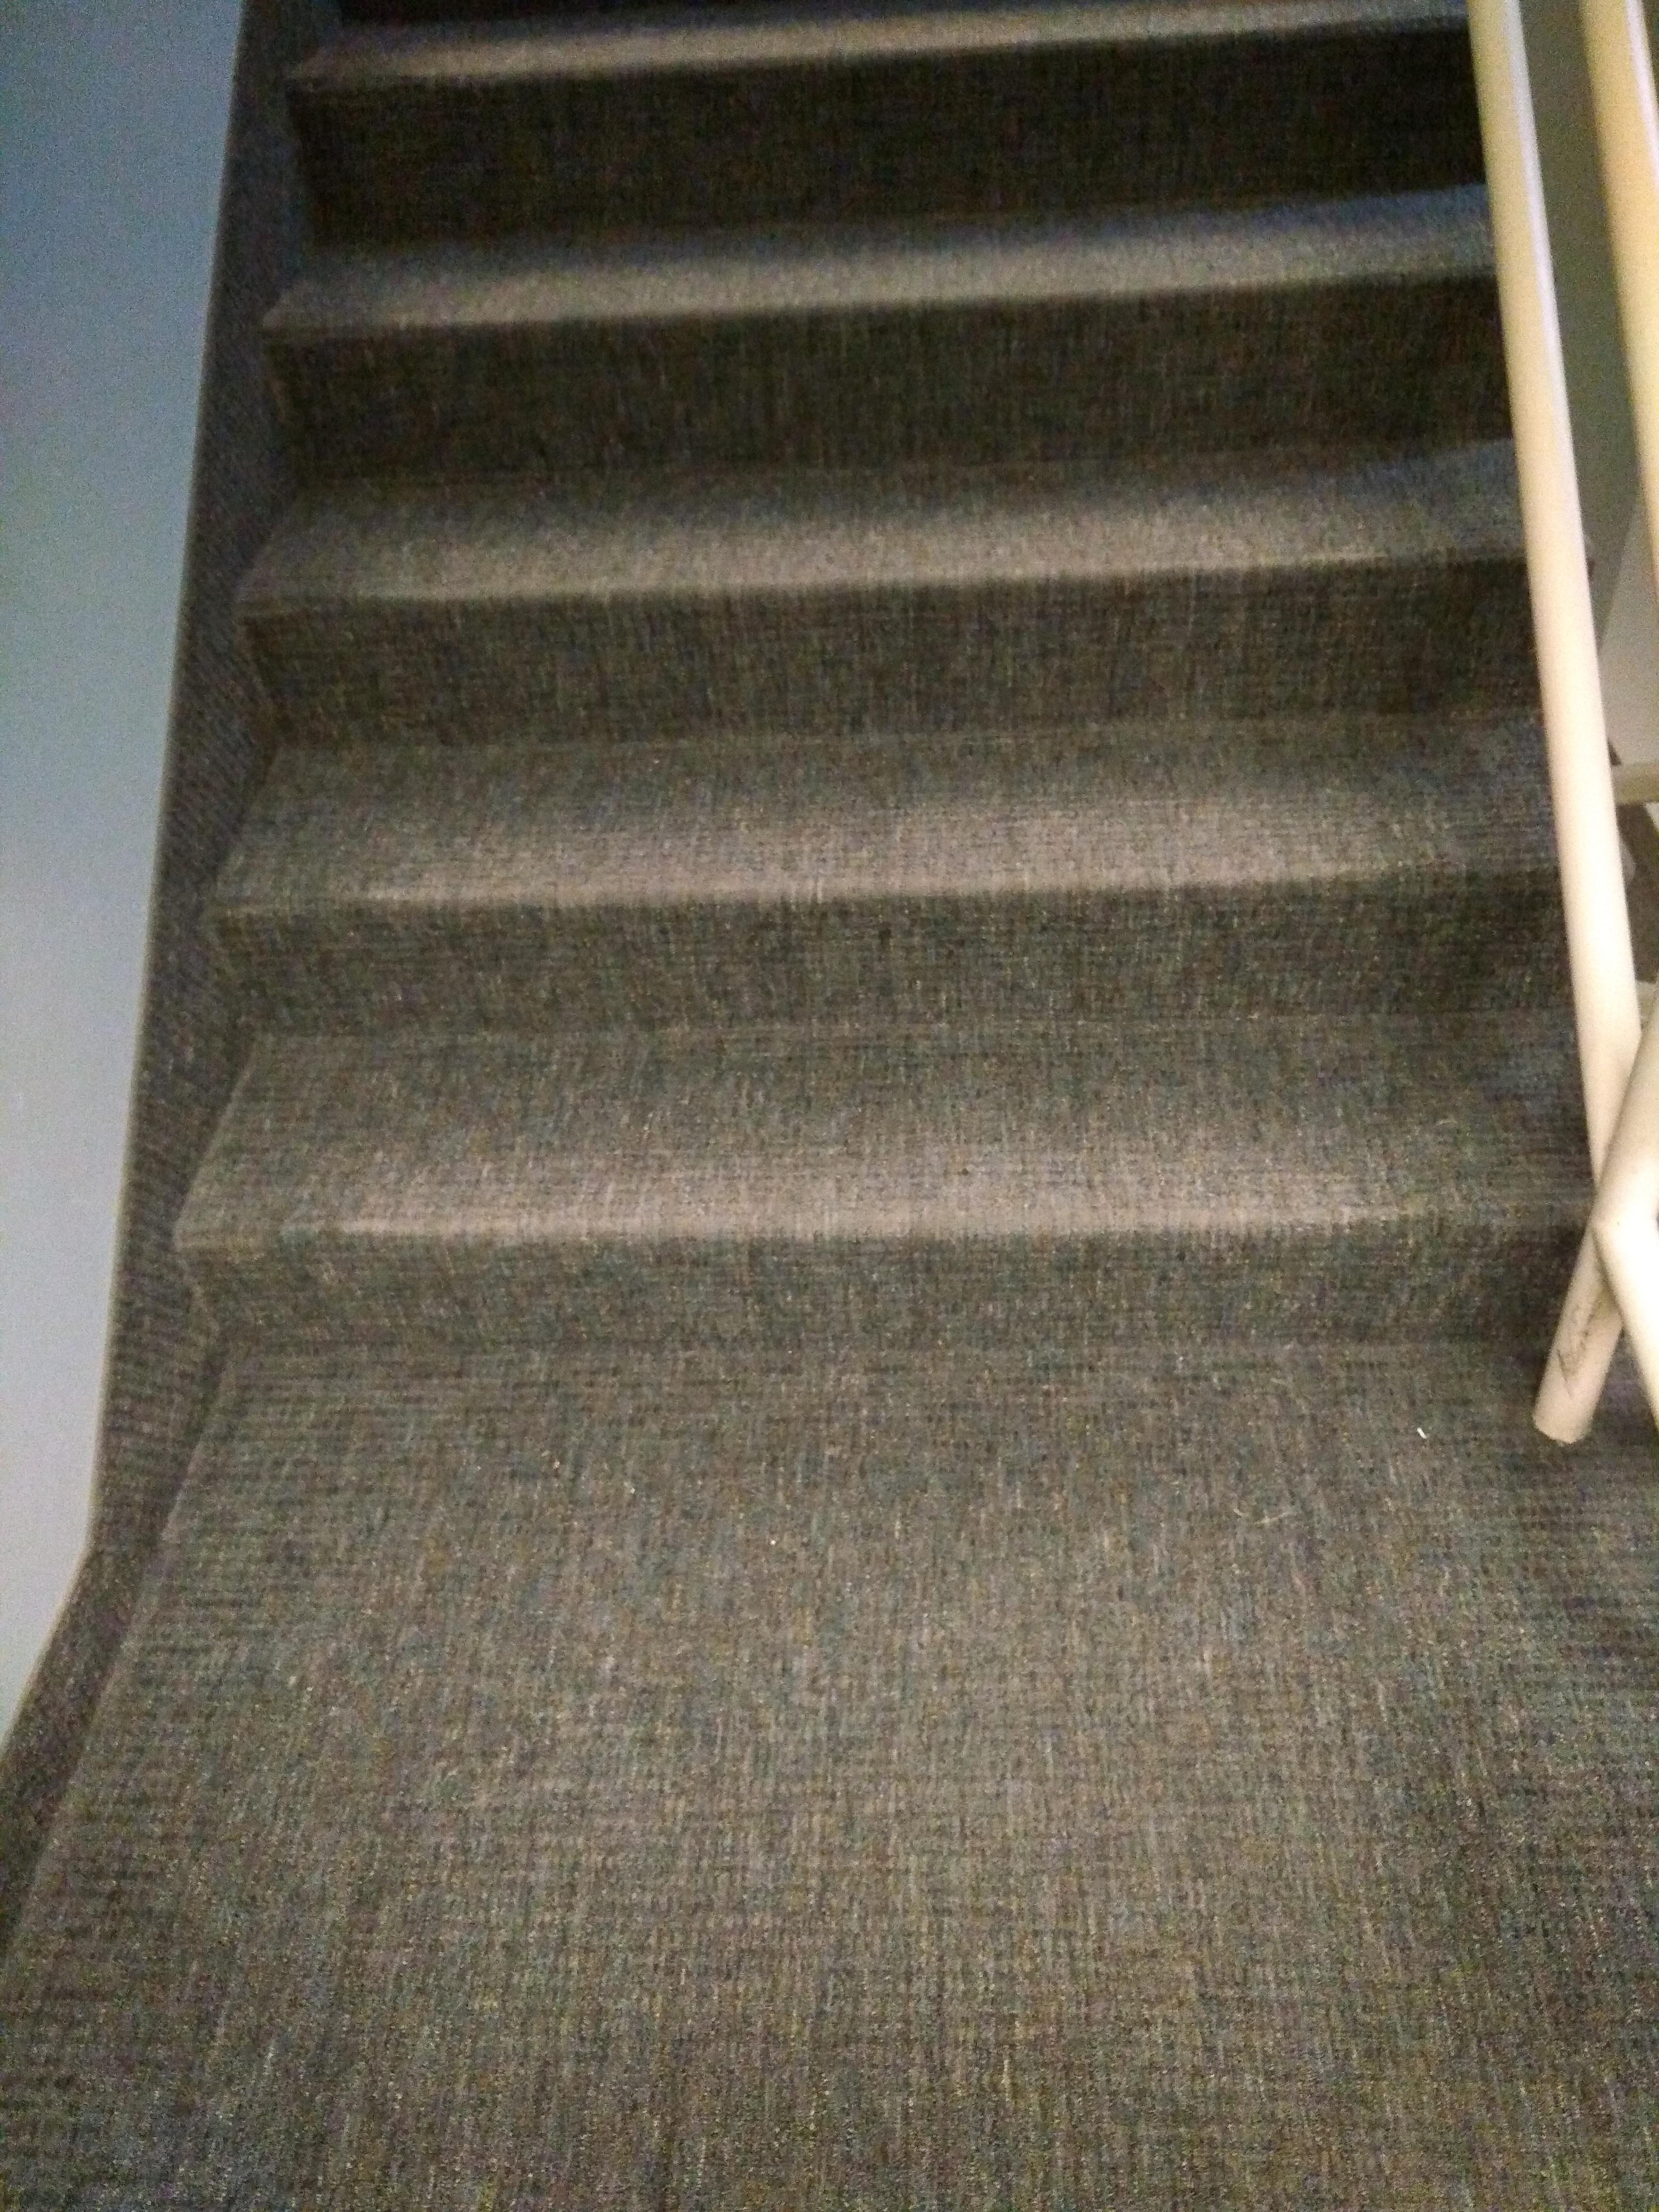stairs_up: (179, 37, 1534, 1507)
